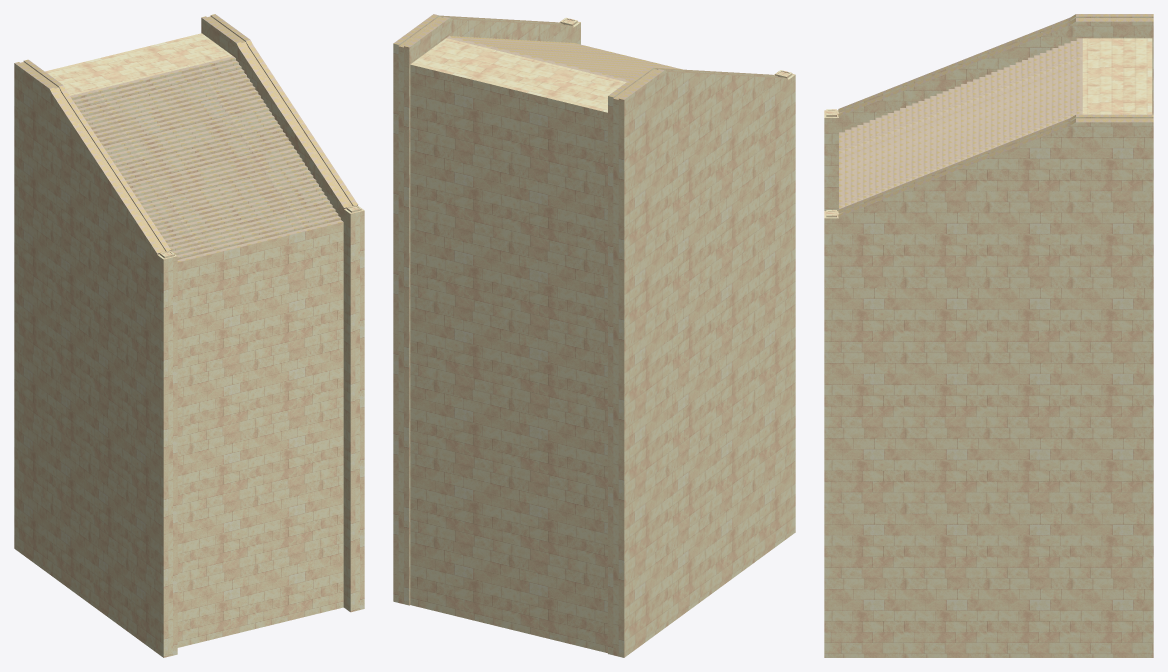
Rendered from SM_stairs_medium.glb.
The picture shows the model from 3 angles, left to right: view 1: azimuth 30°, elevation 25°; view 2: azimuth 150°, elevation 25°; view 3: azimuth 270°, elevation 25°; orthographic projection. The views are drawn at different scales.
Parts seen in each view (by area): view 1: SM_stairs_medium; view 2: SM_stairs_medium; view 3: SM_stairs_medium.
Boxes of the visible parts, box(x1,y1,x2,y2) form: SM_stairs_medium: box(14, 14, 364, 657); SM_stairs_medium: box(393, 14, 795, 657); SM_stairs_medium: box(824, 14, 1153, 657).
Bounding box in the file's own units: 12.34 × 28.49 × 15.88.
Materials: 2 (2 with a texture image).
